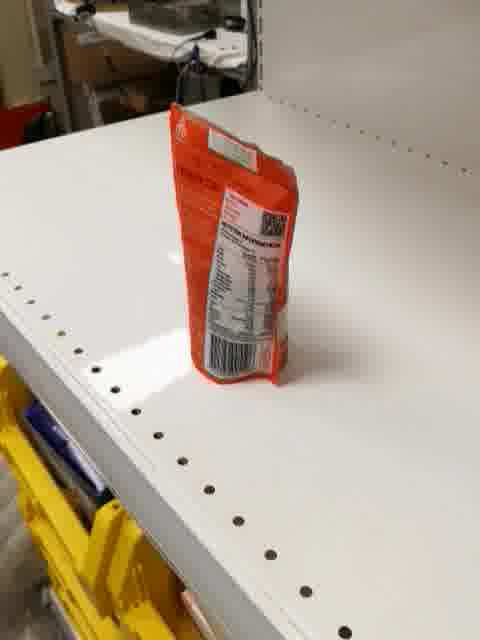whitechia: (162, 100, 301, 390)
